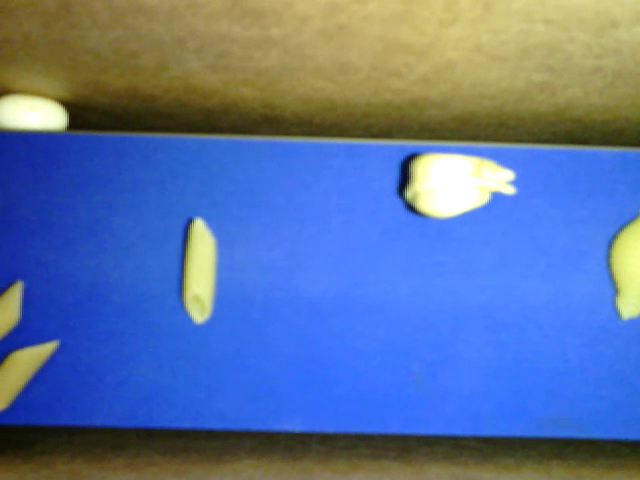penne: (1, 340, 61, 409), (183, 216, 217, 325), (1, 279, 23, 339)
shell: (609, 215, 639, 321)
tortellini: (404, 151, 517, 219)
